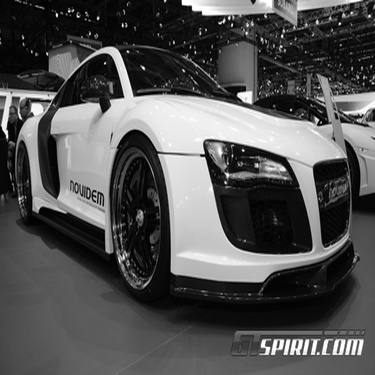car: (16, 38, 361, 313), (234, 73, 372, 208), (328, 89, 373, 135)
